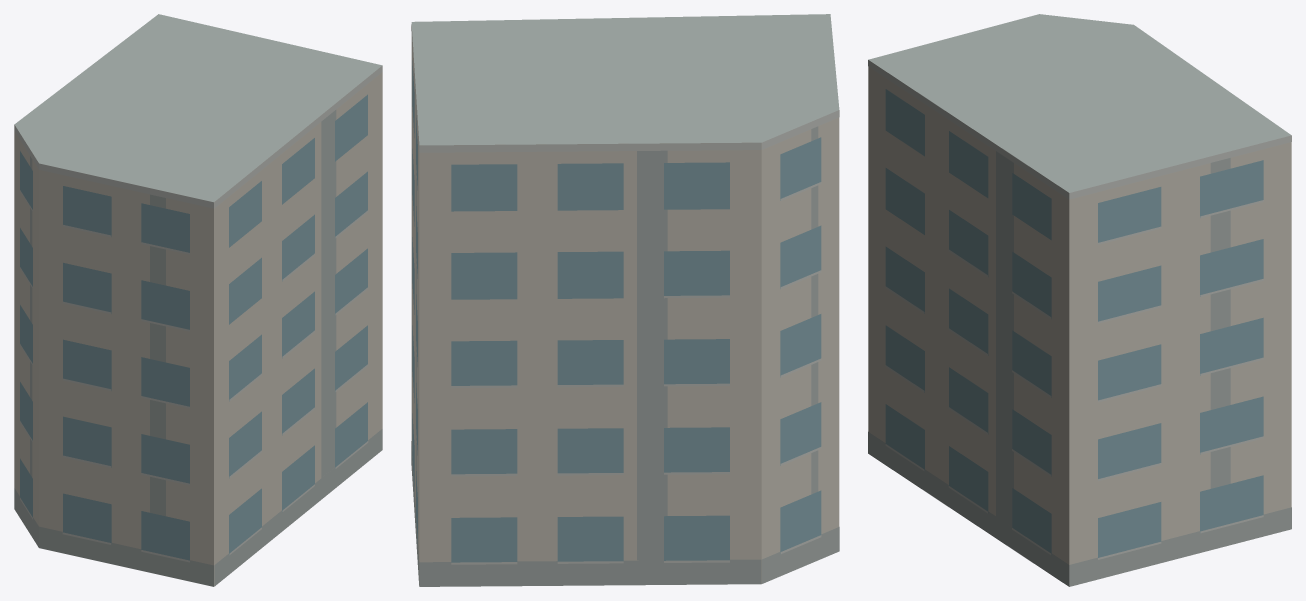
Rendered from survey-upis-32800567.glb.
The picture shows the model from 3 angles, left to right: view 1: azimuth 30°, elevation 25°; view 2: azimuth 150°, elevation 25°; view 3: azimuth 270°, elevation 25°; orthographic projection. The views are drawn at different scales.
Parts seen in each view (by area): view 1: survey-upis-32800567.tmp; view 2: survey-upis-32800567.tmp; view 3: survey-upis-32800567.tmp.
Part boxes in pixels (bbox=[...]): survey-upis-32800567.tmp: bbox=[14, 14, 382, 586]; survey-upis-32800567.tmp: bbox=[411, 14, 839, 586]; survey-upis-32800567.tmp: bbox=[868, 14, 1291, 586].
Bounding box in the file's own units: 14.24 × 14.6 × 14.24.
